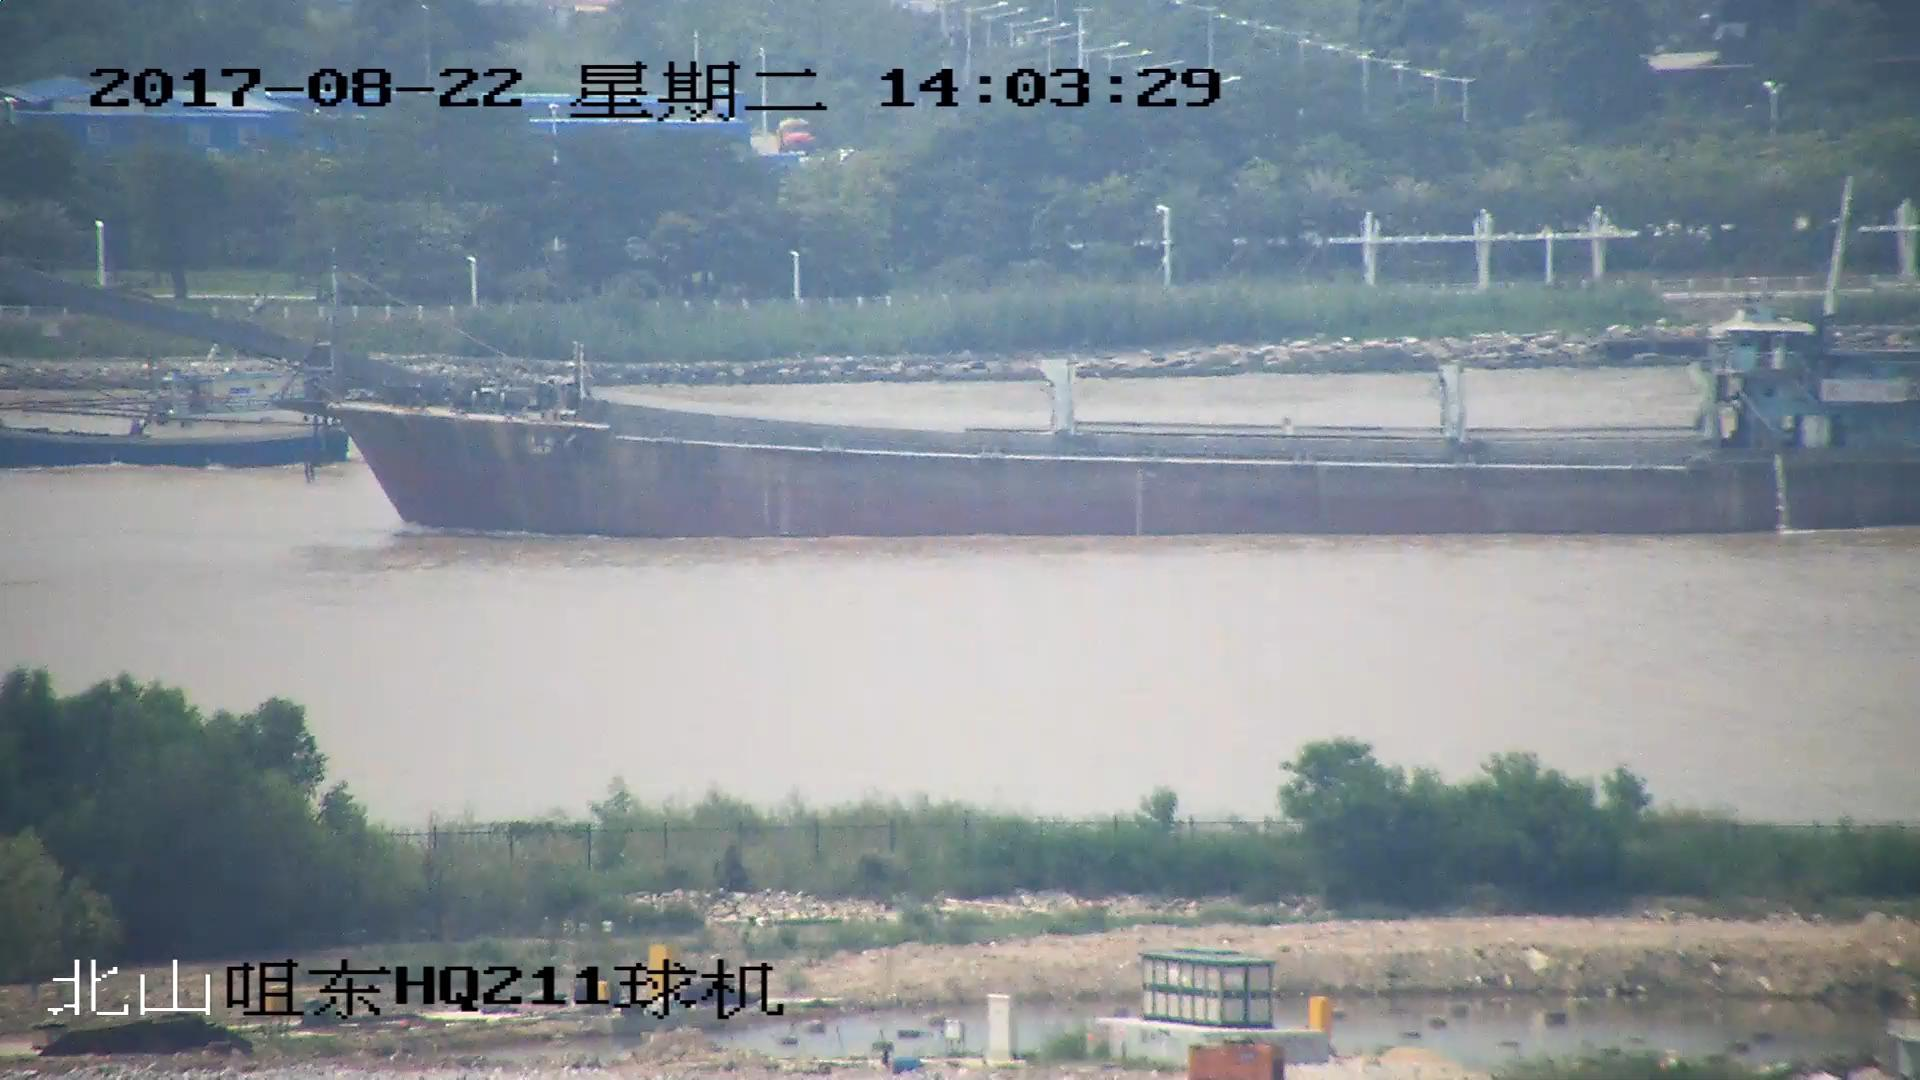Ship: (3, 255, 1920, 538), (3, 367, 353, 468)
